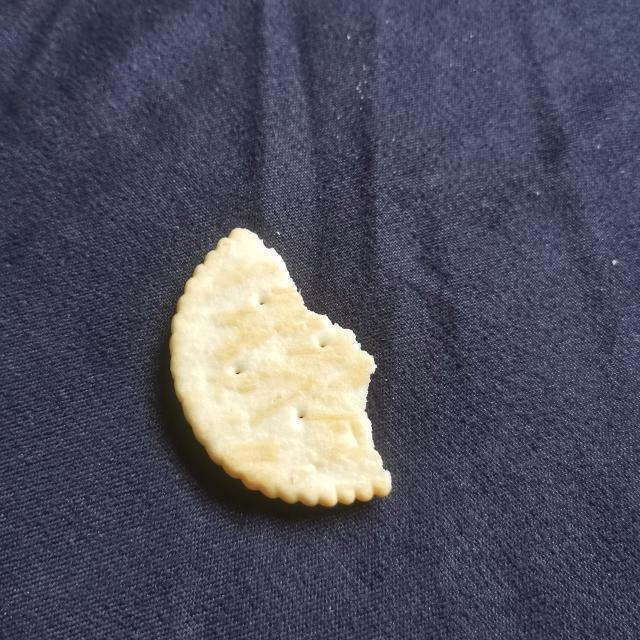Broken: (168, 226, 393, 508)
